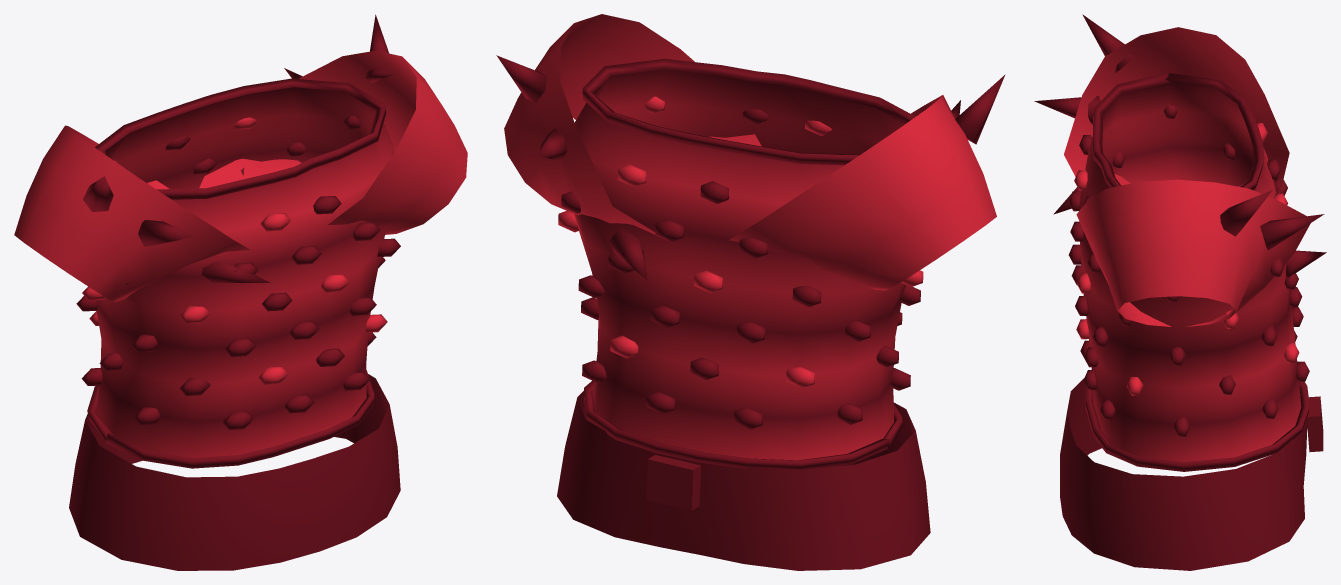
File: adamantite_chainmail.glb
3 views of the same model, side by side, from view 1: azimuth 30°, elevation 25°; view 2: azimuth 150°, elevation 25°; view 3: azimuth 270°, elevation 25° (orthographic). The views are drawn at different scales.
Parts seen in each view (by area): view 1: adamantite_chainmail_chest; view 2: adamantite_chainmail_chest; view 3: adamantite_chainmail_chest.
Boxes of the visible parts, x1,y1,x2,y2 form: adamantite_chainmail_chest: (14,14,467,570); adamantite_chainmail_chest: (496,14,1005,570); adamantite_chainmail_chest: (1034,14,1326,570).
Bounding box in the file's own units: 0.6233 × 0.5752 × 0.3767.
